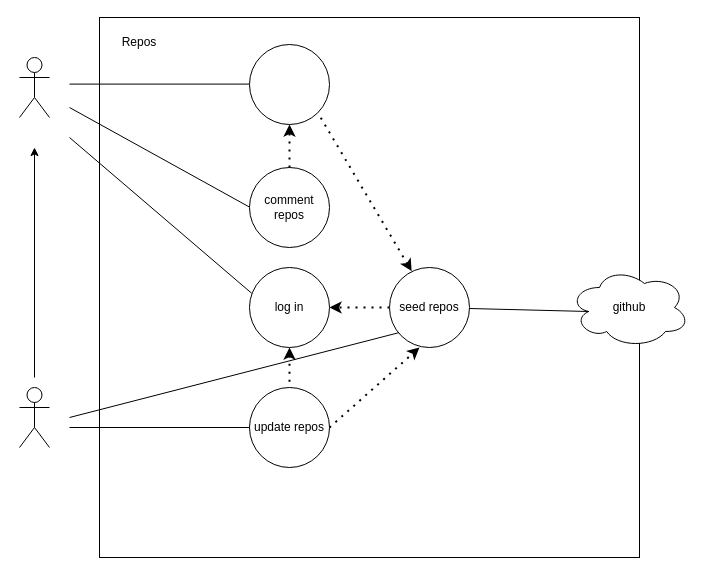
Some shapes in this 707 by 575 pixel diagram are drawn without their labels. The box of each missing label's shape, as (x1, y1, x2, y2) in pixels:
Admin: (18, 386, 50, 448)
view repos: (248, 44, 330, 124)
Visitor: (18, 56, 50, 118)
